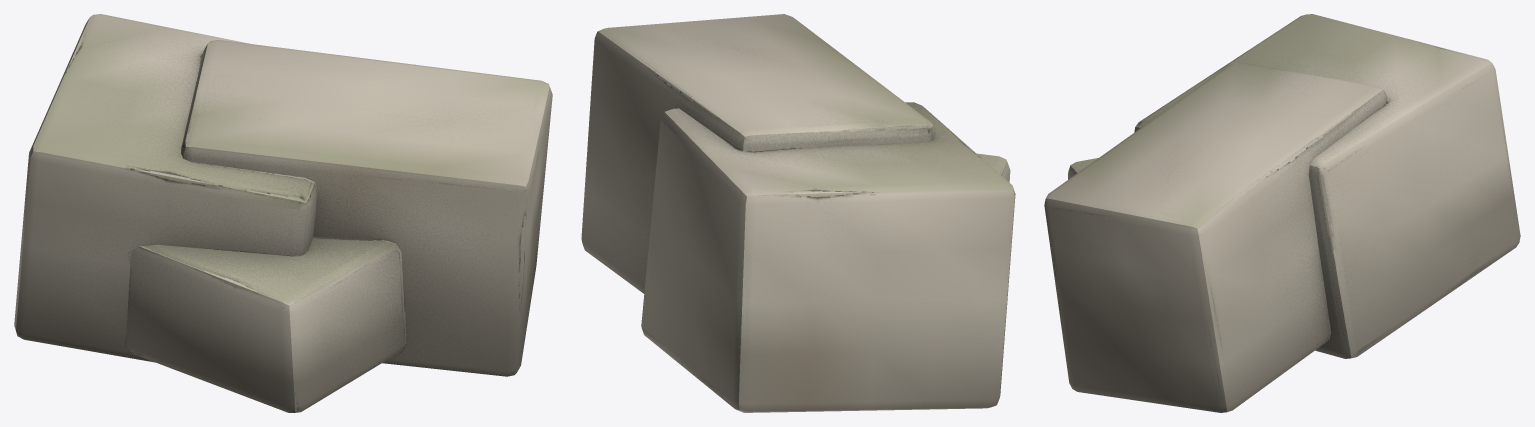
Rendered from cenario_blocos_cal_a.glb.
The picture shows the model from 3 angles, left to right: view 1: azimuth 30°, elevation 25°; view 2: azimuth 150°, elevation 25°; view 3: azimuth 270°, elevation 25°; orthographic projection. The views are drawn at different scales.
Parts seen in each view (by area): view 1: cenario_blocos_cal_a; view 2: cenario_blocos_cal_a; view 3: cenario_blocos_cal_a.
Boxes of the visible parts, box(x1,y1,x2,y2) form: cenario_blocos_cal_a: box(14, 14, 552, 412); cenario_blocos_cal_a: box(581, 14, 1015, 412); cenario_blocos_cal_a: box(1044, 14, 1520, 412).
Bounding box in the file's own units: 2.08 × 1.1 × 1.96.
Materials: 1 (1 with a texture image).
